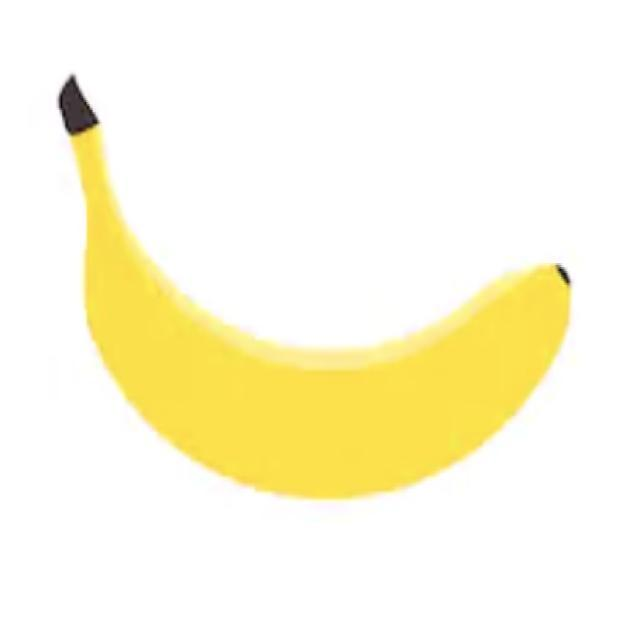Banana: (56, 72, 572, 500)
